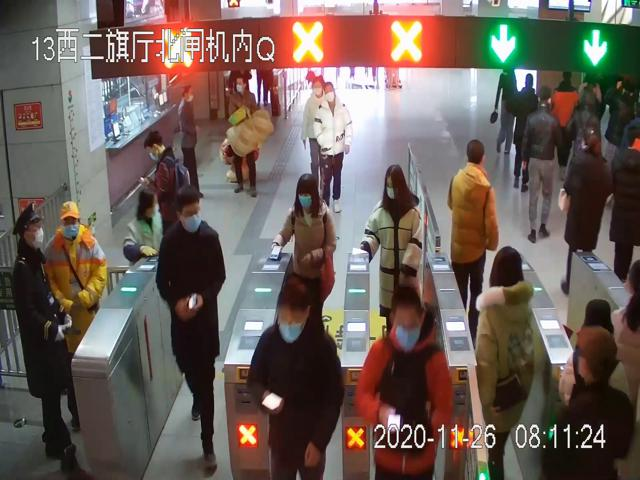person: (9, 203, 86, 480), (156, 184, 228, 471), (42, 200, 108, 430), (448, 138, 499, 344), (278, 170, 337, 333), (363, 163, 424, 315), (522, 84, 562, 244), (226, 76, 263, 205), (315, 81, 350, 214), (178, 83, 207, 197)
